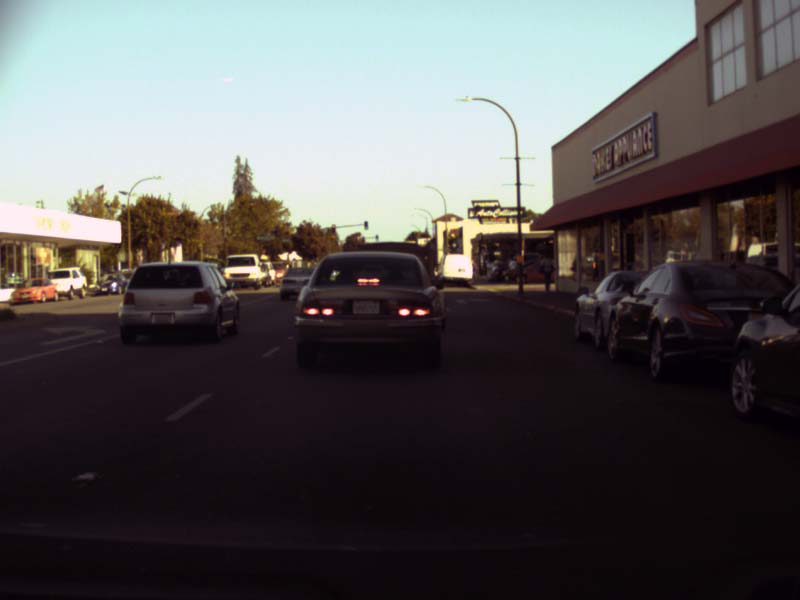Green: (363, 220, 367, 229)
Red: (332, 224, 335, 232)
